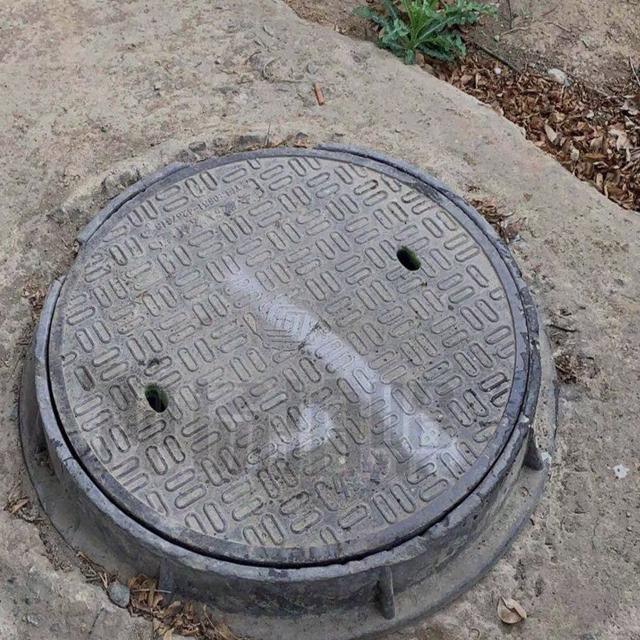good: (32, 148, 540, 581)
